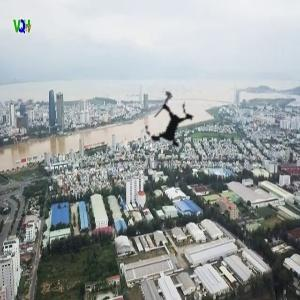drone: (124, 79, 215, 170)
